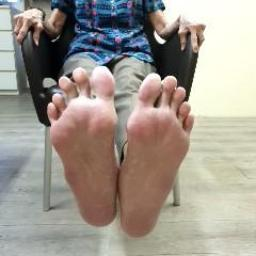Plantar View -Both Feet-: (32, 50, 207, 244)
